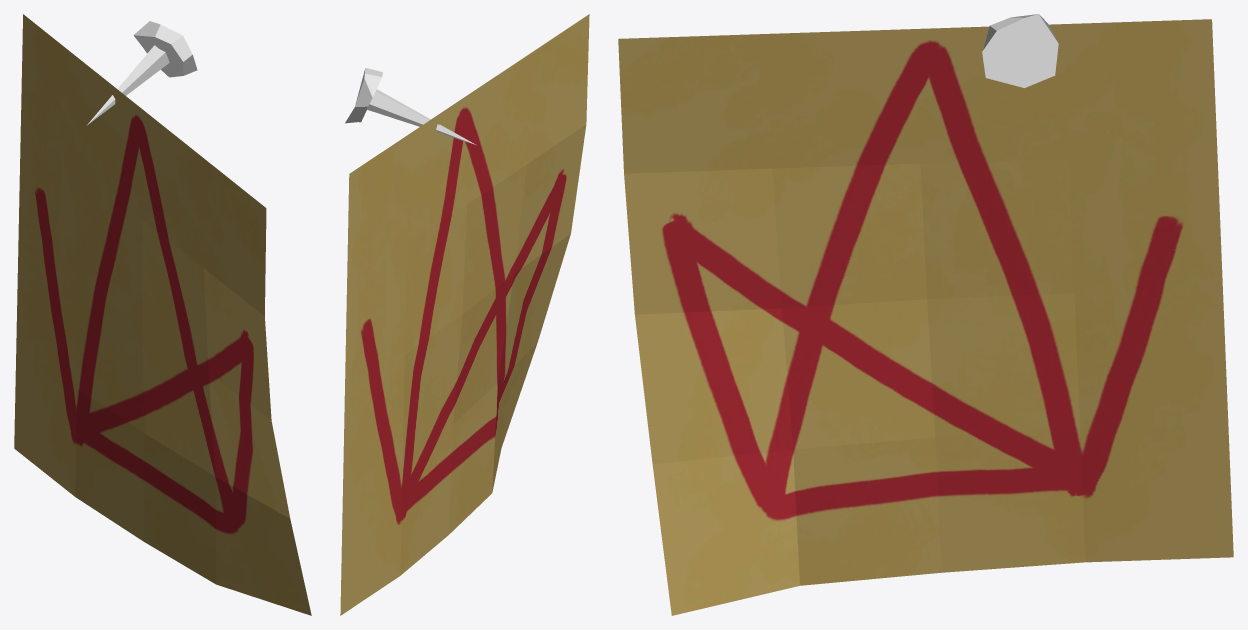
The model's file is Note1.fbx.
3 renders of one model, left to right at view 1: azimuth 30°, elevation 25°; view 2: azimuth 150°, elevation 25°; view 3: azimuth 270°, elevation 25°, orthographic. The views are drawn at different scales.
Parts seen in each view (by area): view 1: Plane, Cylinder, Cone; view 2: Plane, Cone, Cylinder; view 3: Plane, Cylinder.
Part boxes in pixels (x1,y1,x2,y2): Plane: [14, 14, 311, 615]; Cylinder: [133, 21, 197, 77]; Cone: [86, 45, 169, 125]; Plane: [340, 14, 589, 615]; Cone: [366, 89, 476, 145]; Cylinder: [345, 68, 382, 123]; Plane: [618, 19, 1233, 615]; Cylinder: [982, 14, 1058, 87].
Size of the model in its own units: 54.62 by 221 by 207.
